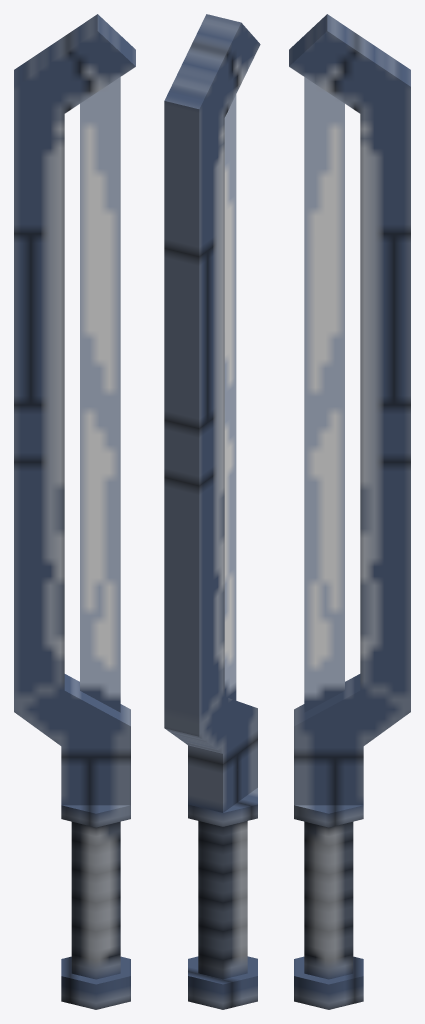
The model's file is Sword.FBX.
3 renders of one model, left to right at view 1: azimuth 90°, elevation 25°; view 2: azimuth 150°, elevation 25°; view 3: azimuth 270°, elevation 25°, orthographic.
Visible parts, largest first — view 1: Sword; view 2: Sword; view 3: Sword.
Boxes of the visible parts, <box> form: Sword: <box>14,14,135,1009</box>; Sword: <box>164,14,260,1009</box>; Sword: <box>289,14,410,1009</box>.
Size of the model in its own units: 6.39 by 85.09 by 9.69.
1 material, 1 textured.
